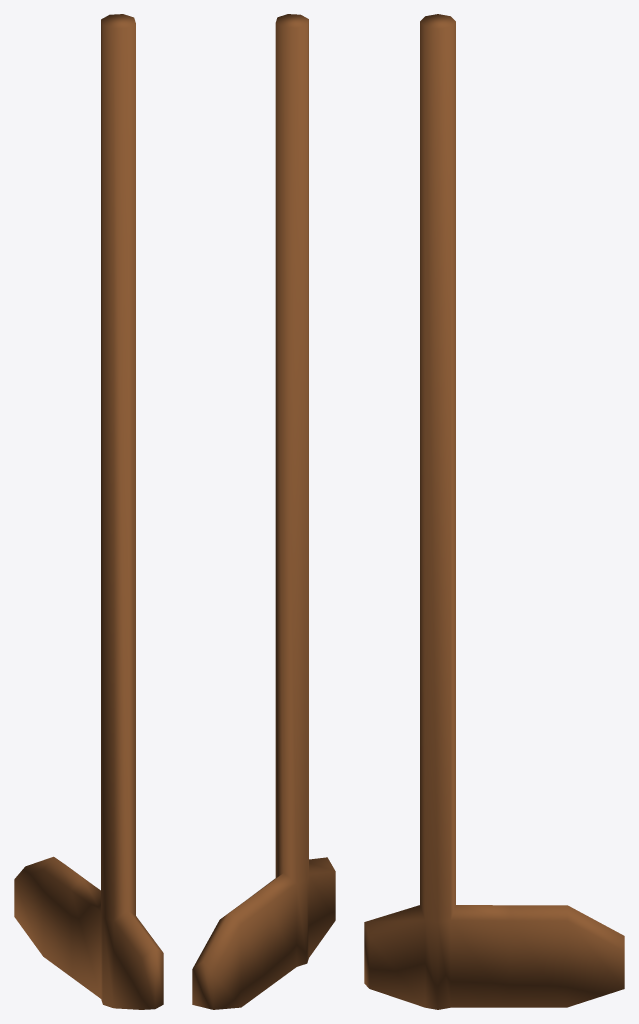
File: GolfWedge.fbx
3 views of the same model, side by side, from view 1: azimuth 30°, elevation 25°; view 2: azimuth 150°, elevation 25°; view 3: azimuth 270°, elevation 25° (orthographic). The views are drawn at different scales.
Parts seen in each view (by area): view 1: GolfWedge; view 2: GolfWedge; view 3: GolfWedge.
Part boxes in pixels (x1,y1,x2,y2): GolfWedge: (14, 14, 163, 1009); GolfWedge: (192, 14, 335, 1009); GolfWedge: (364, 14, 624, 1009).
Size of the model in its own units: 4 by 120 by 28.87.
